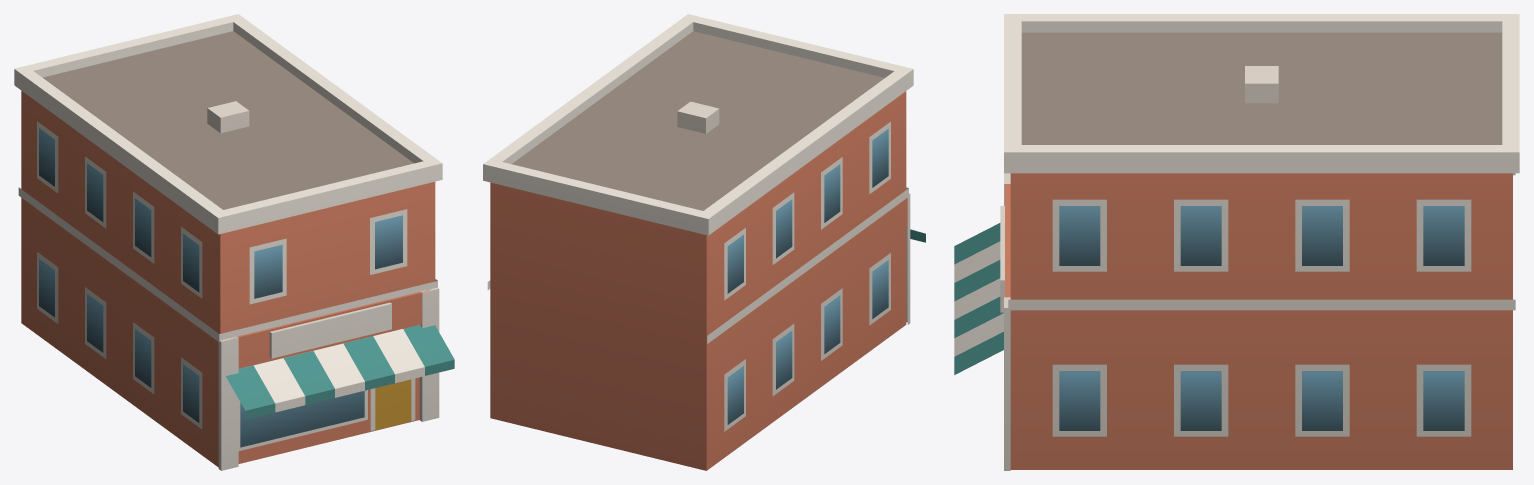
The model's file is beacon_ne7_far.glb.
3 views of the same model, side by side, from view 1: azimuth 30°, elevation 25°; view 2: azimuth 150°, elevation 25°; view 3: azimuth 270°, elevation 25° (orthographic). The views are drawn at different scales.
Parts seen in each view (by area): view 1: beacon_ne7_far; view 2: beacon_ne7_far; view 3: beacon_ne7_far.
Boxes of the visible parts, x1=… form: beacon_ne7_far: x1=14, y1=14, x2=454, y2=470; beacon_ne7_far: x1=483, y1=14, x2=925, y2=470; beacon_ne7_far: x1=954, y1=14, x2=1519, y2=470.
Size of the model in its own units: 7.82 by 8.67 by 13.51.
Materials: 1 (1 with a texture image).
